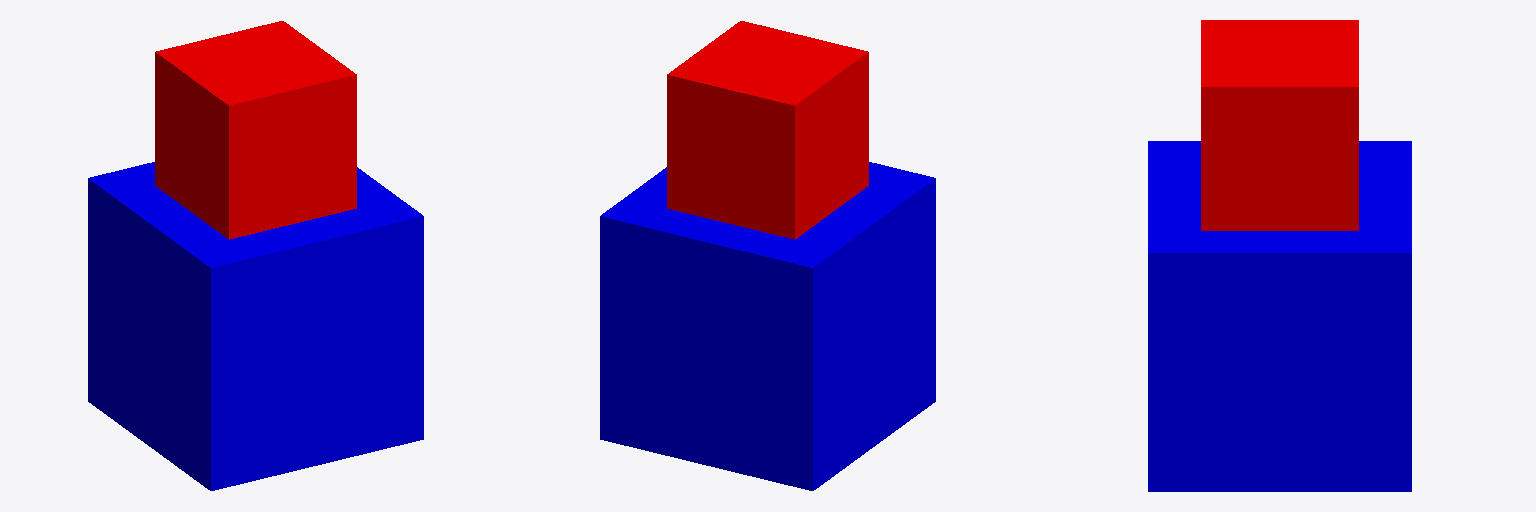
URDF robot description (box_robot):
<?xml version="1.0"?>
<robot name="box_robot">
  <!-- Fixed base box -->
  <link name="world"/>
  
  <link name="fixed_box">
    <visual>
      <geometry>
        <box size="0.5 0.5 0.5"/>
      </geometry>
      <material name="blue">
        <color rgba="0 0 1 1"/>
      </material>
    </visual>
    <collision>
      <geometry>
        <box size="0.5 0.5 0.5"/>
      </geometry>
    </collision>
    <inertial>
      <mass value="1.0"/>
      <inertia ixx="0.042" ixy="0.0" ixz="0.0" iyy="0.042" iyz="0.0" izz="0.042"/>
    </inertial>
  </link>

  <joint name="world_to_box" type="fixed">
    <parent link="world"/>
    <child link="fixed_box"/>
    <origin xyz="0 0 0.25"/>
  </joint>

  <!-- Movable box -->
  <link name="movable_box">
    <visual>
      <geometry>
        <box size="0.3 0.3 0.3"/>
      </geometry>
      <material name="red">
        <color rgba="1 0 0 1"/>
      </material>
    </visual>
    <collision>
      <geometry>
        <box size="0.3 0.3 0.3"/>
      </geometry>
    </collision>
    <inertial>
      <mass value="0.5"/>
      <inertia ixx="0.0125" ixy="0.0" ixz="0.0" iyy="0.0125" iyz="0.0" izz="0.0125"/>
    </inertial>
  </link>

  <joint name="controllable_joint" type="fixed">
    <parent link="fixed_box"/>
    <child link="movable_box"/>
    <origin xyz="0 0 0.4"/>
    <axis xyz="0 0 1"/>
  </joint>
</robot>

--- Render facts (derived) ---
The picture shows the robot from 3 angles, left to right: view 1: azimuth 30°, elevation 25°; view 2: azimuth 150°, elevation 25°; view 3: azimuth 270°, elevation 25°; orthographic projection.
Robot: box_robot — 3 links, 2 joints (2 fixed); root link world; default pose: all joints at 0.
Visible links, largest first — view 1: fixed_box, movable_box; view 2: fixed_box, movable_box; view 3: fixed_box, movable_box.
Boxes of the visible links, left/top/right/bottom form: fixed_box: left=88, top=162, right=423, bottom=490; movable_box: left=155, top=21, right=356, bottom=239; fixed_box: left=600, top=162, right=935, bottom=490; movable_box: left=667, top=21, right=868, bottom=239; fixed_box: left=1148, top=141, right=1411, bottom=491; movable_box: left=1201, top=20, right=1358, bottom=230.
Bounding box of the posed robot: 0.5 × 0.5 × 0.8 m (x, y, z).
Geometry: primitives only (box / cylinder / sphere), no mesh files.
